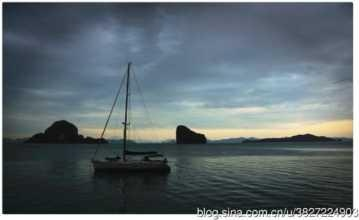fanchuan: (89, 60, 170, 177)
